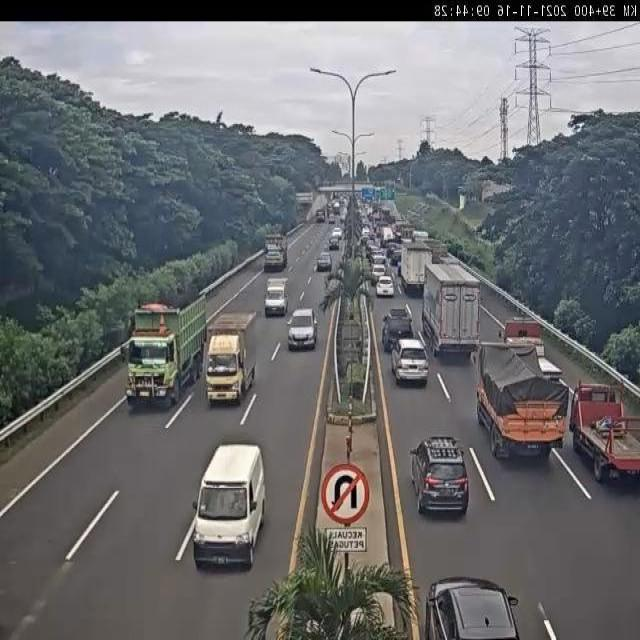Car: (409, 435, 470, 519), (390, 339, 429, 382), (382, 308, 418, 348), (286, 310, 320, 350), (376, 274, 395, 296), (316, 254, 332, 272), (370, 266, 388, 281), (328, 237, 339, 251)
Truck: (475, 344, 569, 458), (122, 294, 208, 409), (570, 381, 640, 484), (422, 262, 480, 358), (205, 310, 257, 406), (497, 318, 562, 374), (401, 243, 434, 293), (264, 276, 290, 318), (263, 236, 289, 270)
Van: (192, 443, 268, 572)
